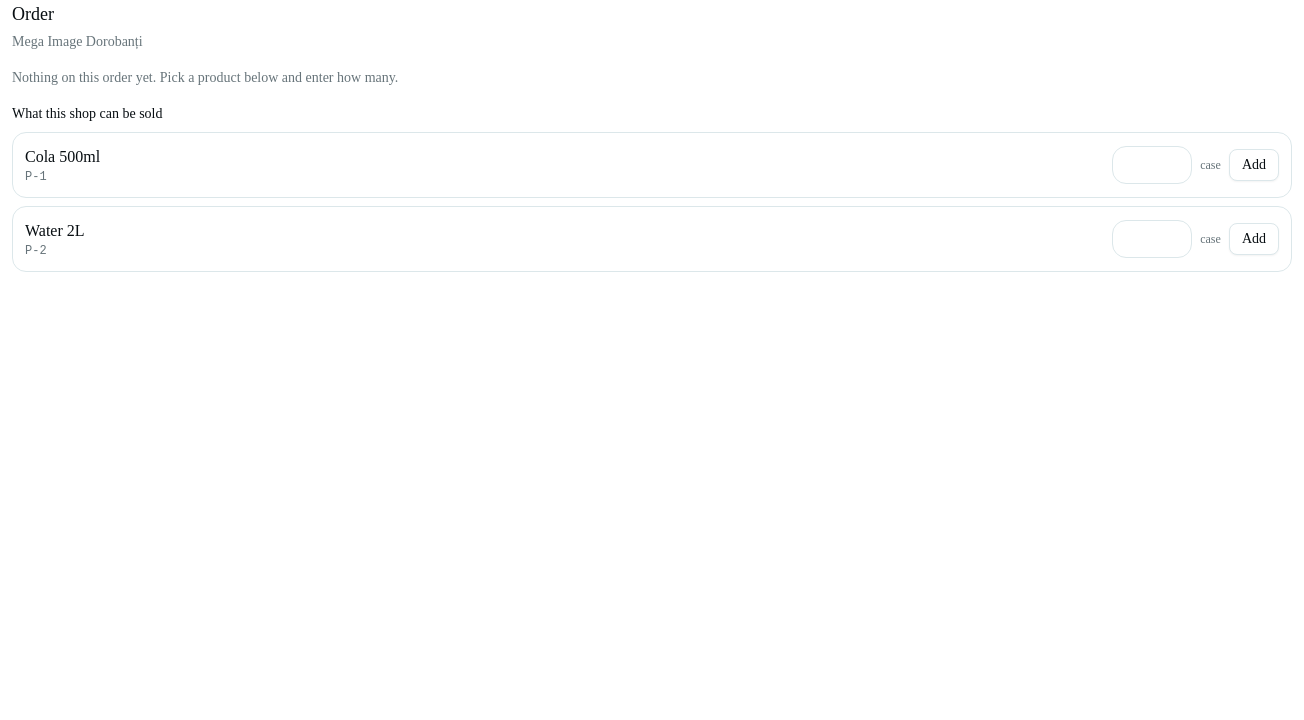
Test: <Order> and what a rep can put on it › shows the four numbers a shopkeeper is told
This screenshot has width=1304, height=720.
In the field named "How many Cola 500ml" in the row of "Cola 500ml": {"x": 1152, "y": 165} [1112, 146, 1192, 184], type "6"
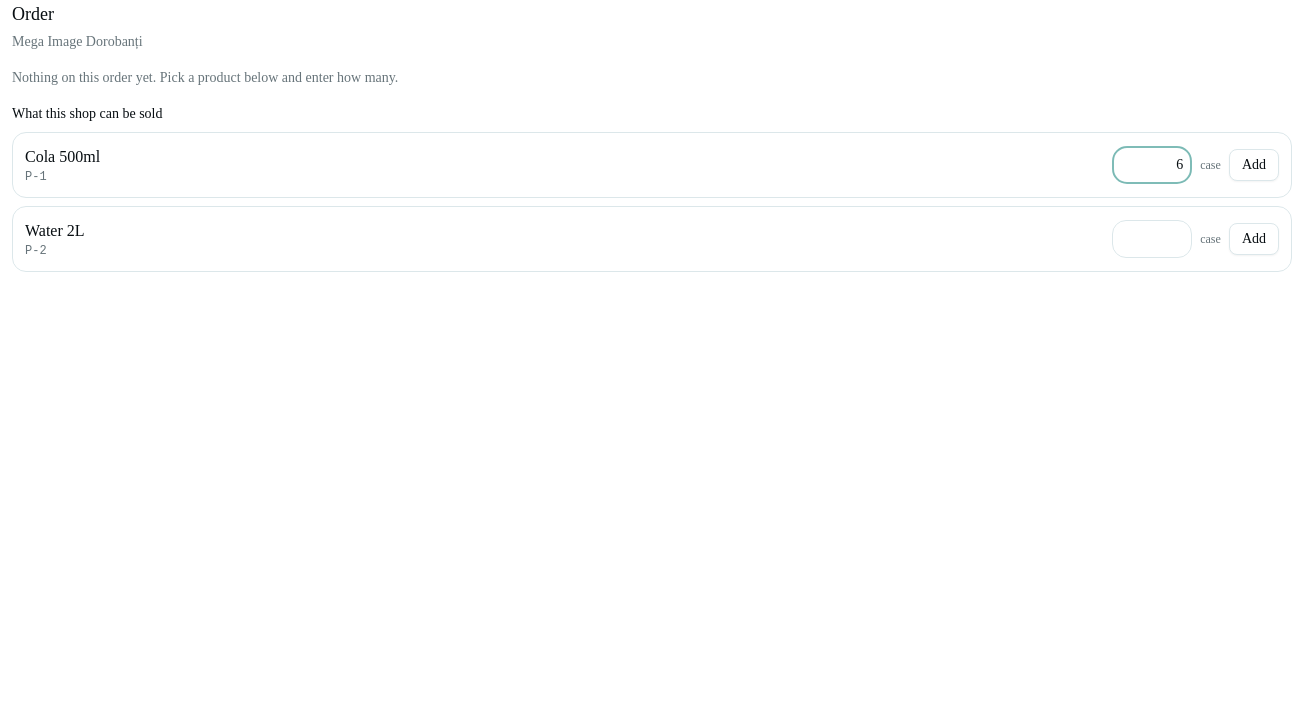
Click the button "Add" in the row of "Cola 500ml": {"x": 1254, "y": 165} [1229, 149, 1279, 181]
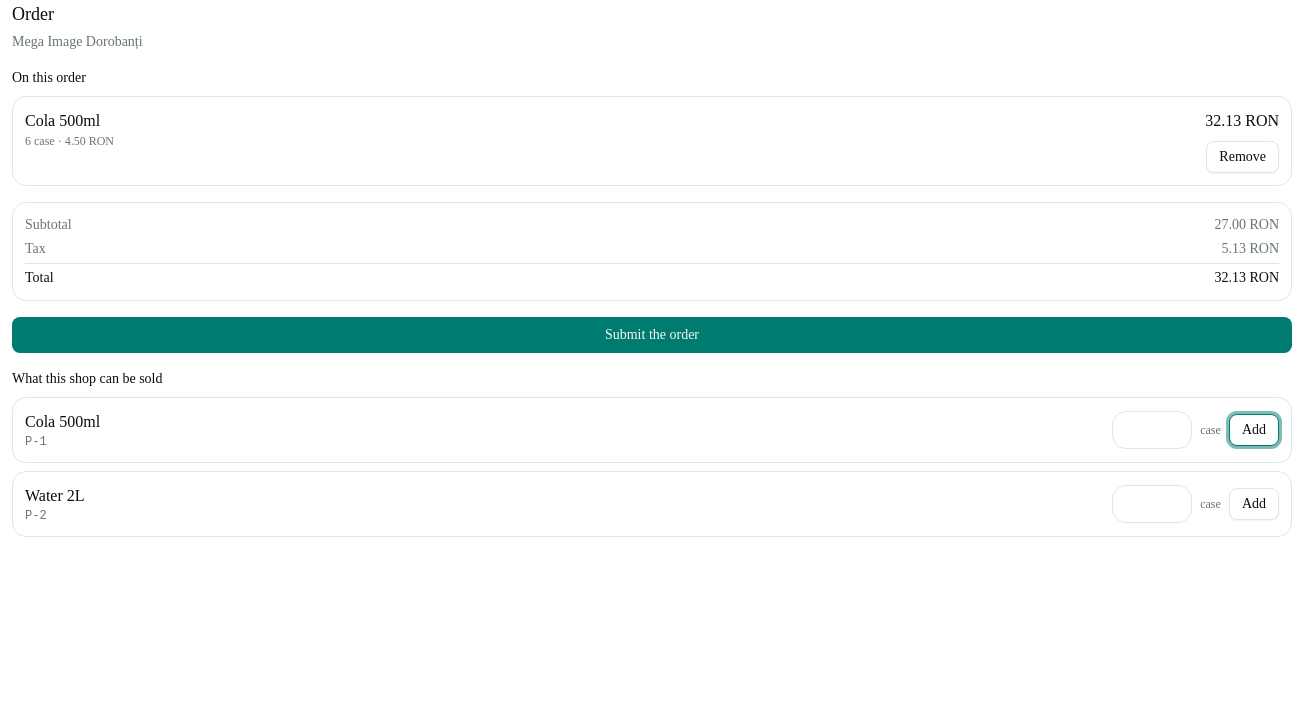
Check: the text "27.00 RON" is shown, box [1214, 215, 1279, 235]
Check: the text "5.13 RON" is shown, box [1221, 239, 1279, 259]
Check: the text "32.13 RON" below "5.13 RON" is shown, box [1214, 270, 1279, 285]
